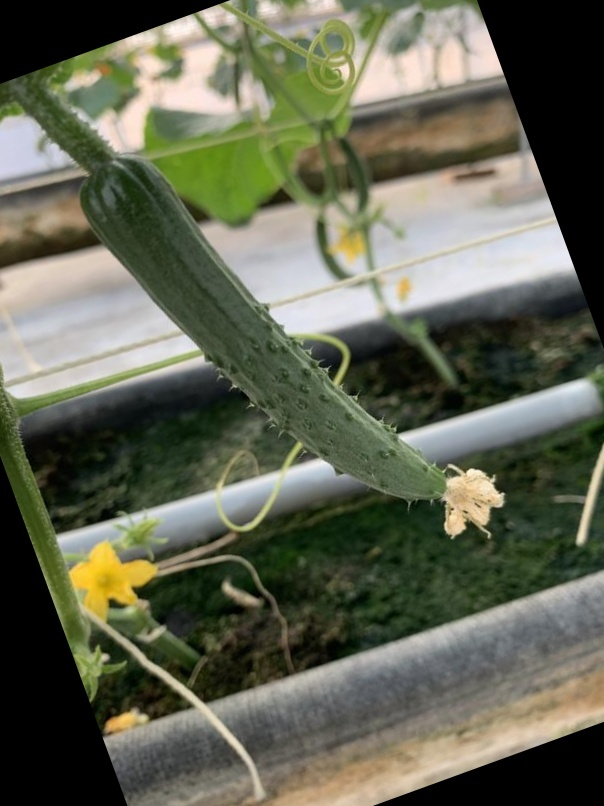growth: (77, 145, 464, 518)
